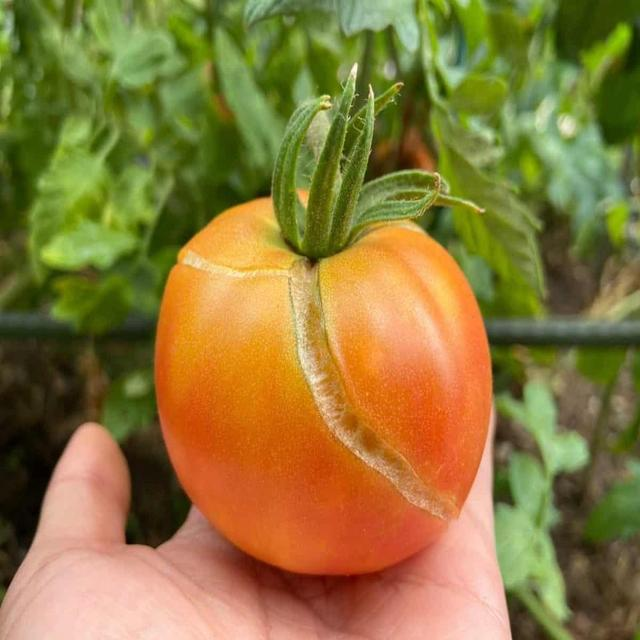Cracking Fruit: (107, 147, 209, 201)
